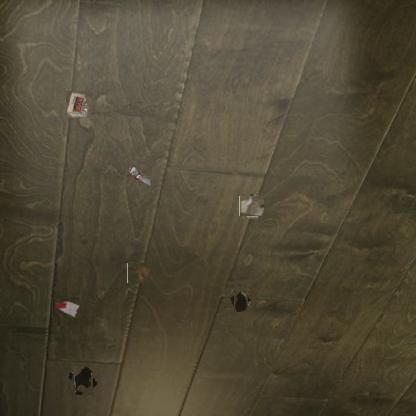dirty: (65, 92, 91, 118), (126, 164, 152, 186), (52, 298, 80, 318), (241, 195, 263, 218), (127, 263, 150, 283)
liquid: (71, 368, 95, 392), (232, 292, 250, 310)
